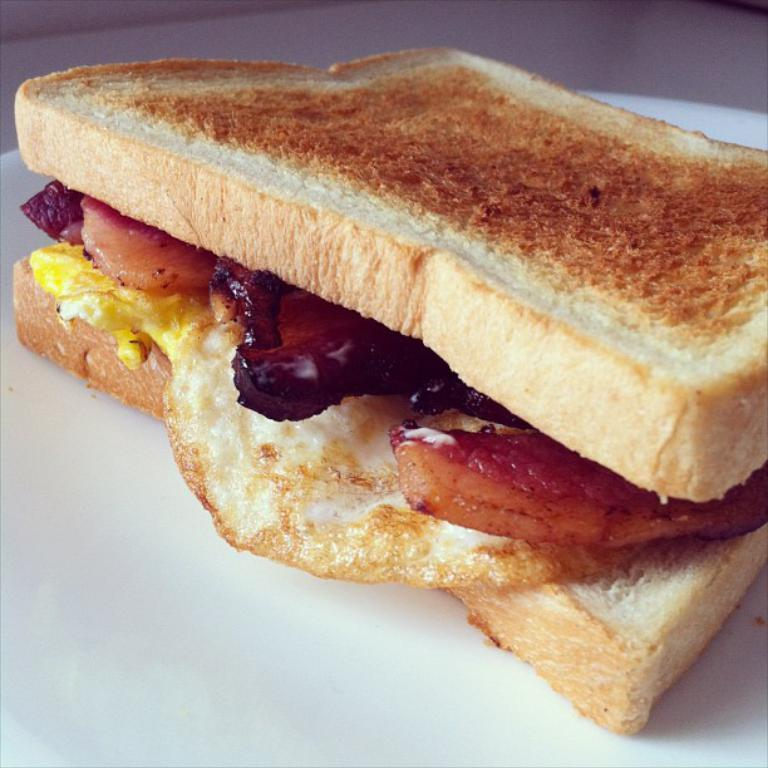sandwich: (13, 43, 767, 737)
